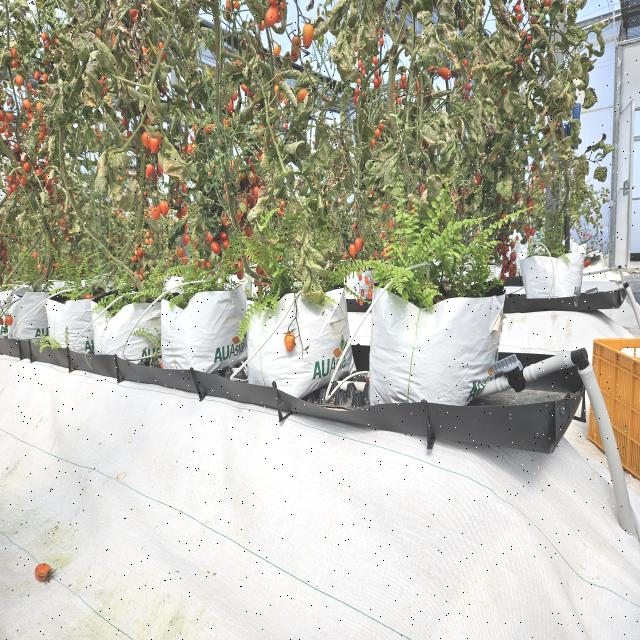Soilbag: (371, 283, 506, 412), (247, 284, 352, 398), (160, 286, 245, 377), (95, 290, 161, 370), (47, 292, 113, 356)
plant: (358, 12, 455, 298), (239, 59, 357, 285), (50, 37, 149, 303)
